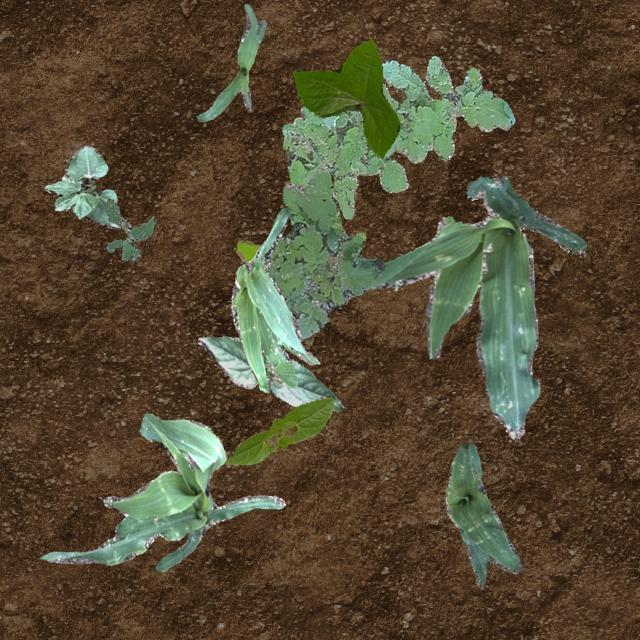crop: (368, 175, 586, 438), (39, 412, 284, 570), (230, 206, 318, 392), (292, 37, 398, 156), (444, 442, 522, 588), (196, 334, 344, 410), (196, 2, 266, 120), (224, 396, 334, 464), (42, 144, 120, 228)
weed: (282, 55, 514, 218), (266, 168, 384, 338), (106, 198, 156, 260), (234, 240, 260, 262)
